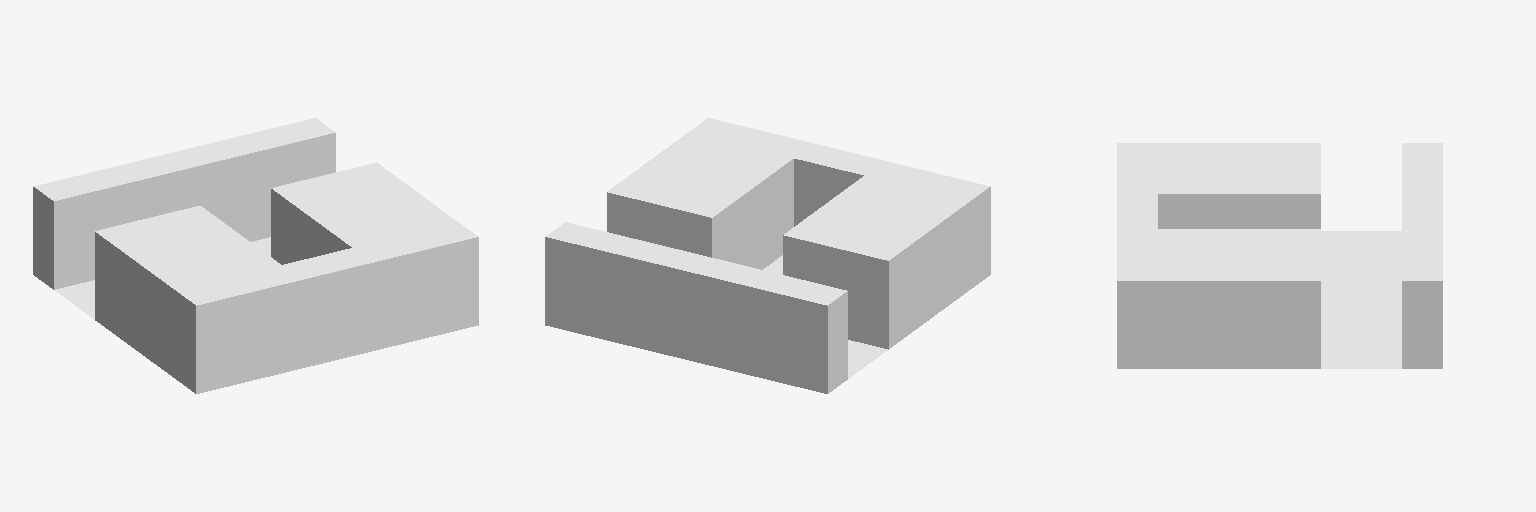
The model's file is BeginningOfMaze.obj.
3 renders of one model, left to right at view 1: azimuth 30°, elevation 25°; view 2: azimuth 150°, elevation 25°; view 3: azimuth 270°, elevation 25°, orthographic.
Parts seen in each view (by area): view 1: Plane; view 2: Plane; view 3: Plane.
Boxes of the visible parts, box(x1,y1,x2,y2) form: Plane: box(33, 118, 478, 393); Plane: box(545, 118, 990, 393); Plane: box(1117, 143, 1442, 368).
Bounding box in the file's own units: 20 × 6 × 20.